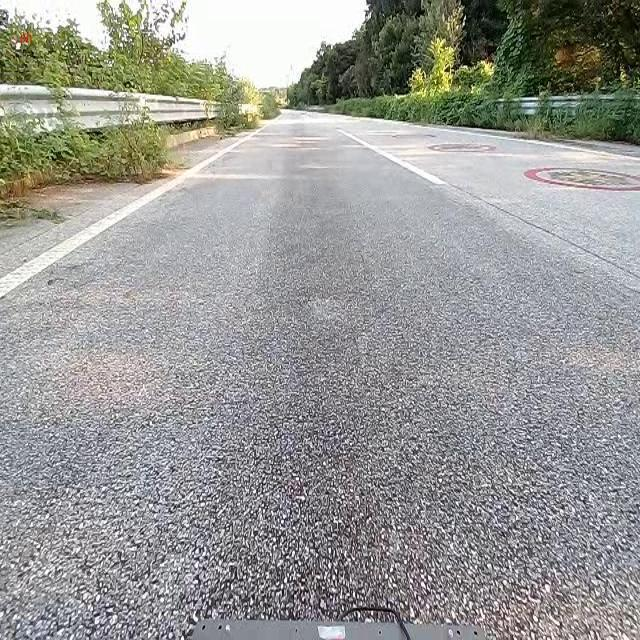Lane: (0, 113, 268, 312), (0, 131, 256, 298), (322, 115, 465, 195), (341, 130, 446, 184)
